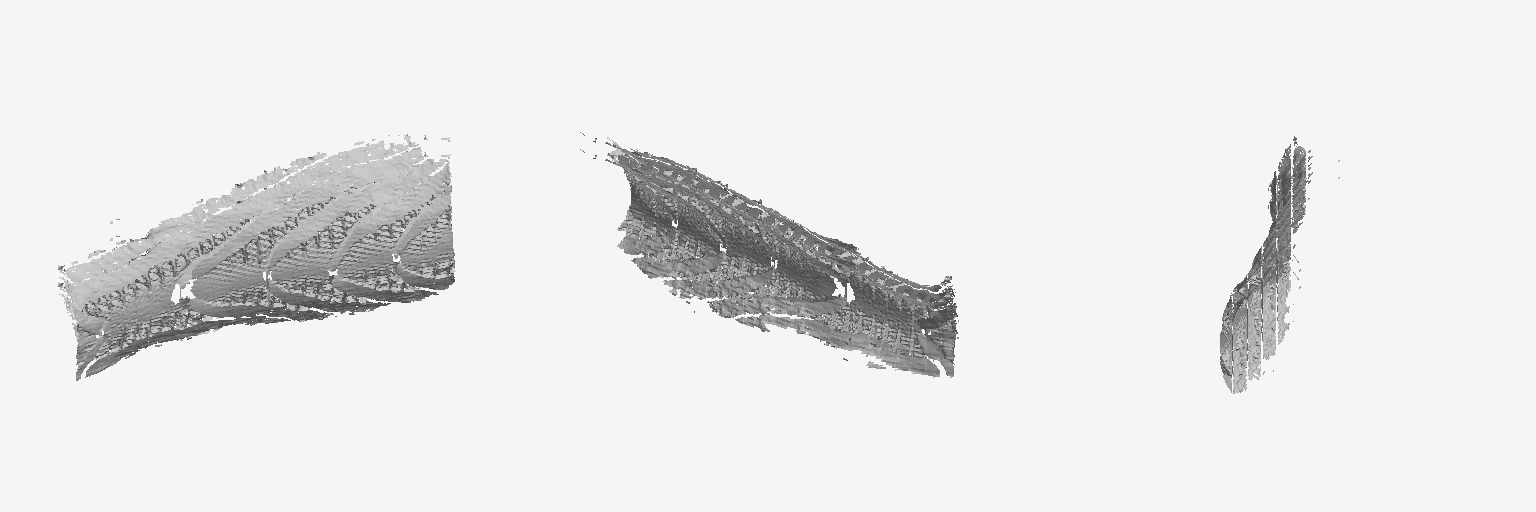
The model's file is TSDF_result2.obj.
The picture shows the model from 3 angles: view 1: azimuth 30°, elevation 25°; view 2: azimuth 150°, elevation 25°; view 3: azimuth 270°, elevation 25°; orthographic projection.
Size of the model in its own units: 0.236 by 0.096 by 0.0645.